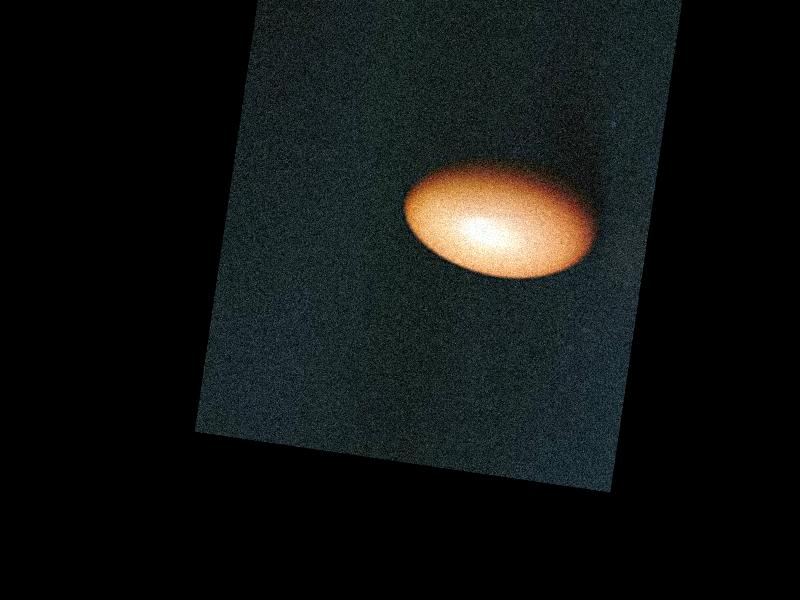Eggs: (396, 149, 606, 288)
